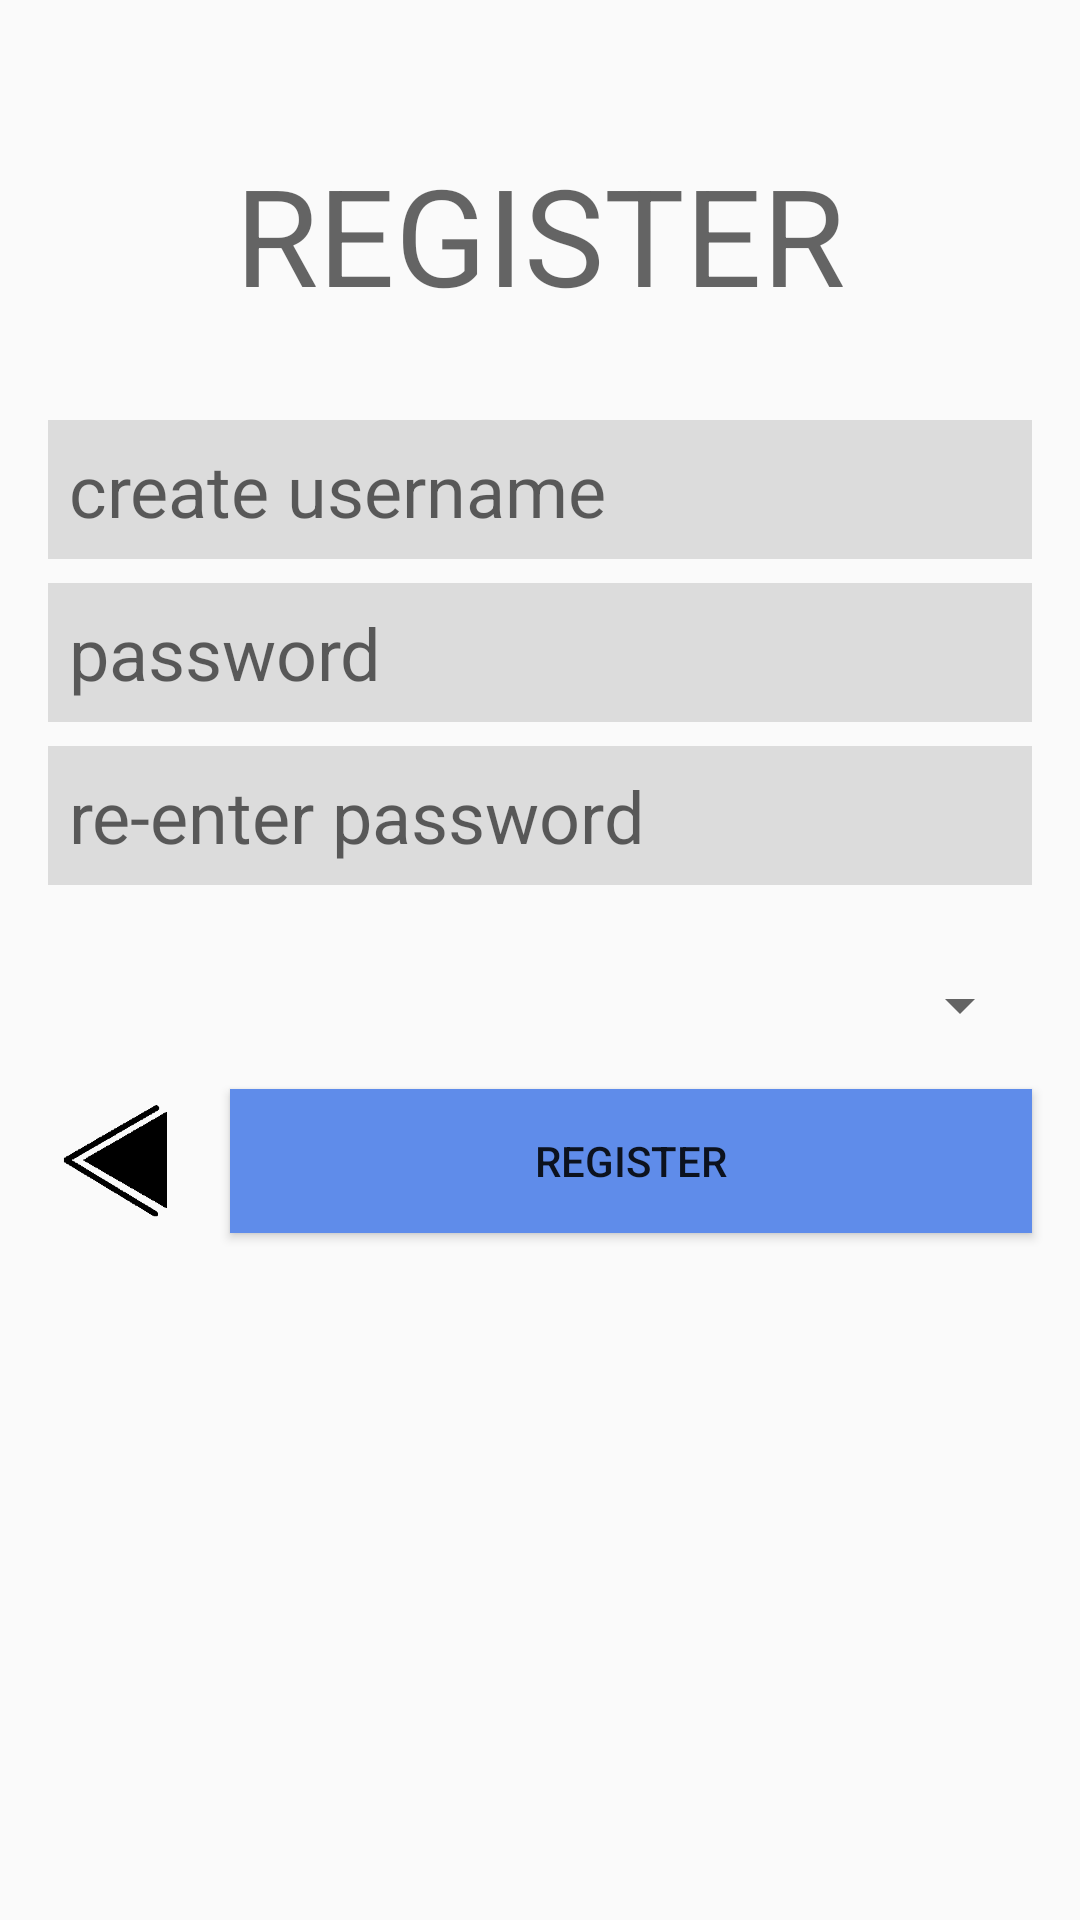

Named icons in this screenshot (1080x1920) and their centers, (x=x, y=y):
Back: (x=115, y=1161)
